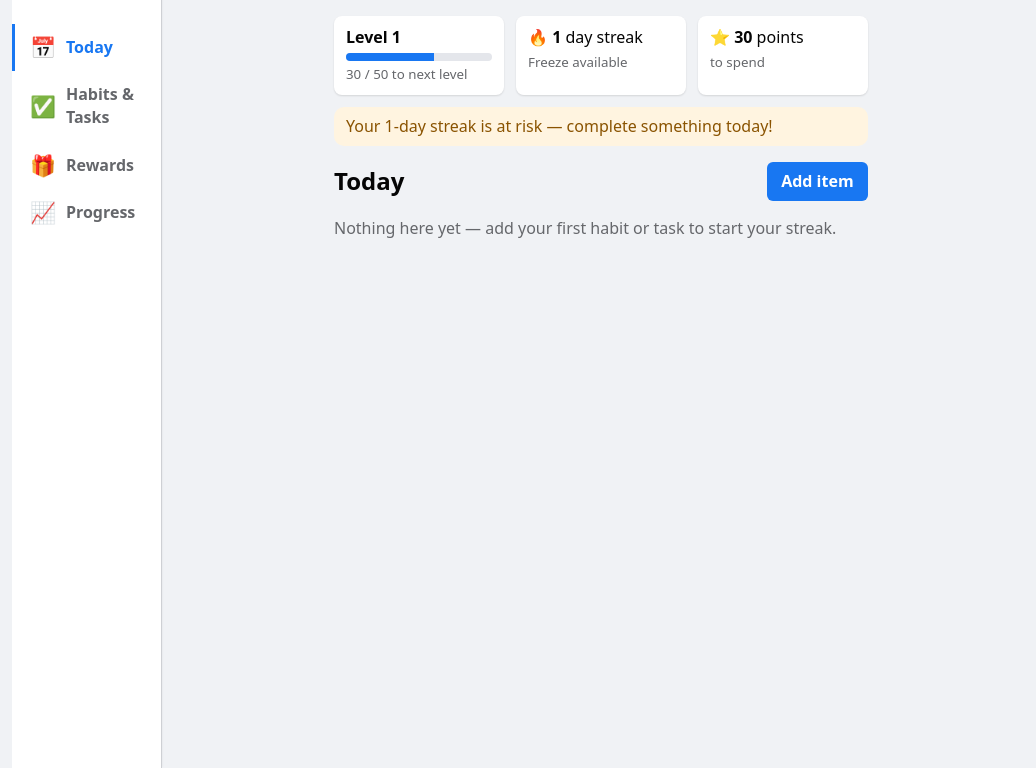
Test: Rewards screen › redeeming spends the balance, logs history, and keeps the level
Click the button "🎁 Rewards" at coordinates (86, 165), box [12,142,161,189]
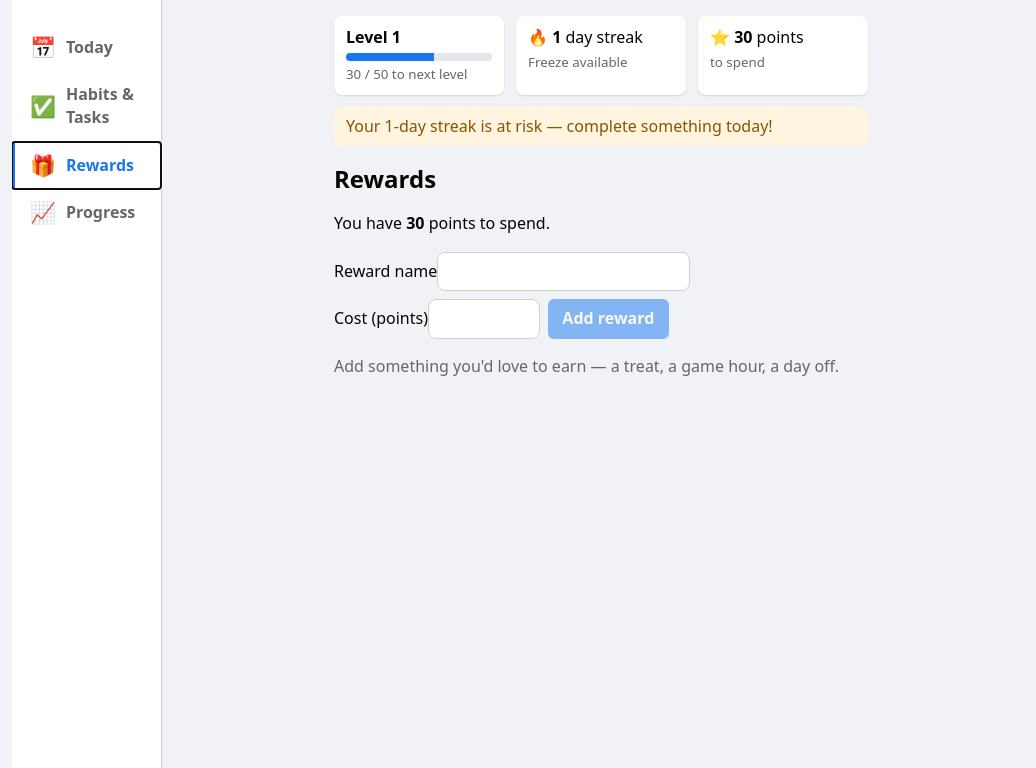
Type "Coffee" into the field labelled "Reward name" at coordinates (564, 272), box [437,252,690,291]
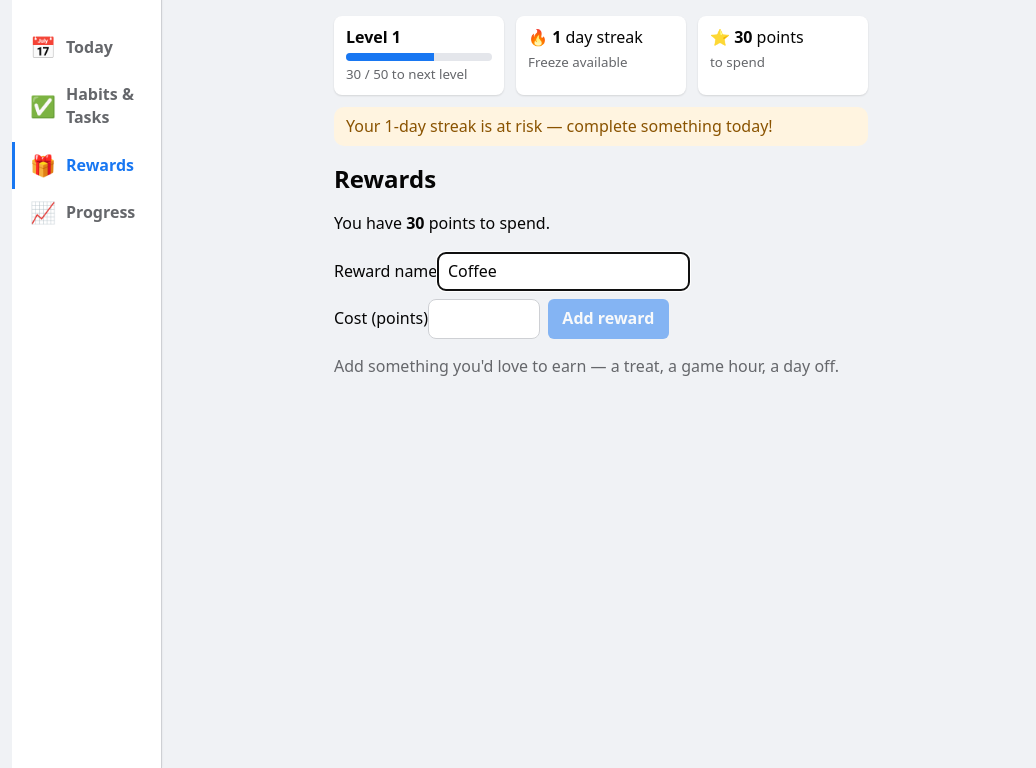
Type "15" into the number field labelled "Cost (points)" at coordinates (484, 319), box [428,299,540,339]
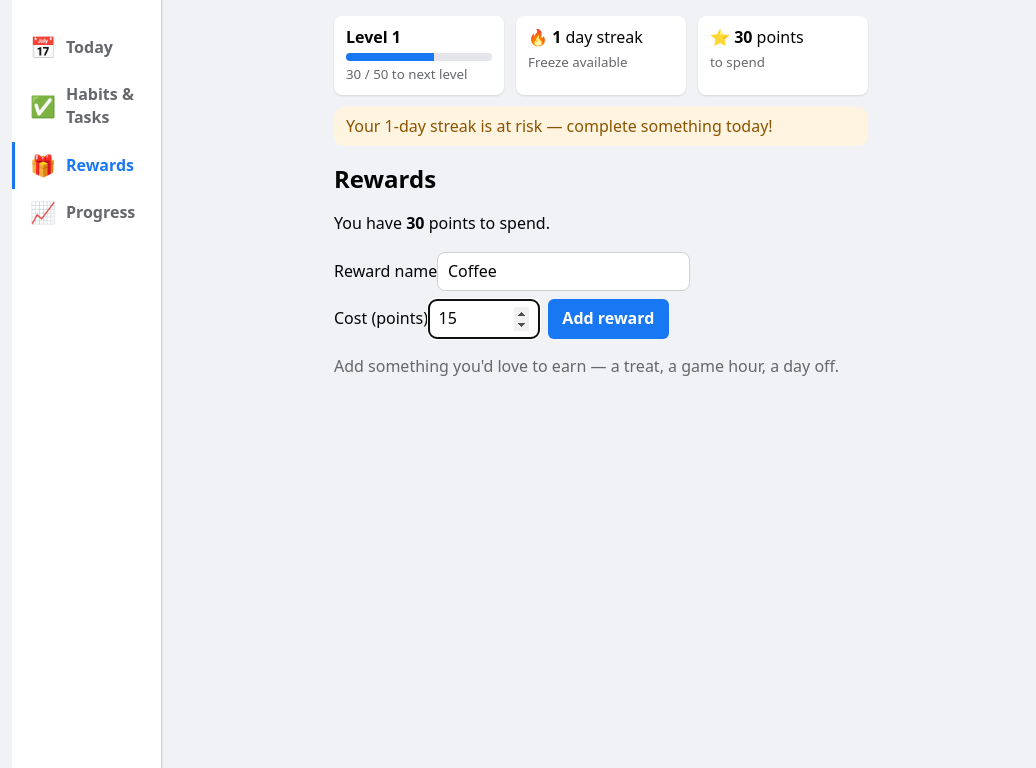
Click the button "Add reward" at coordinates (608, 319), box [548,299,669,339]
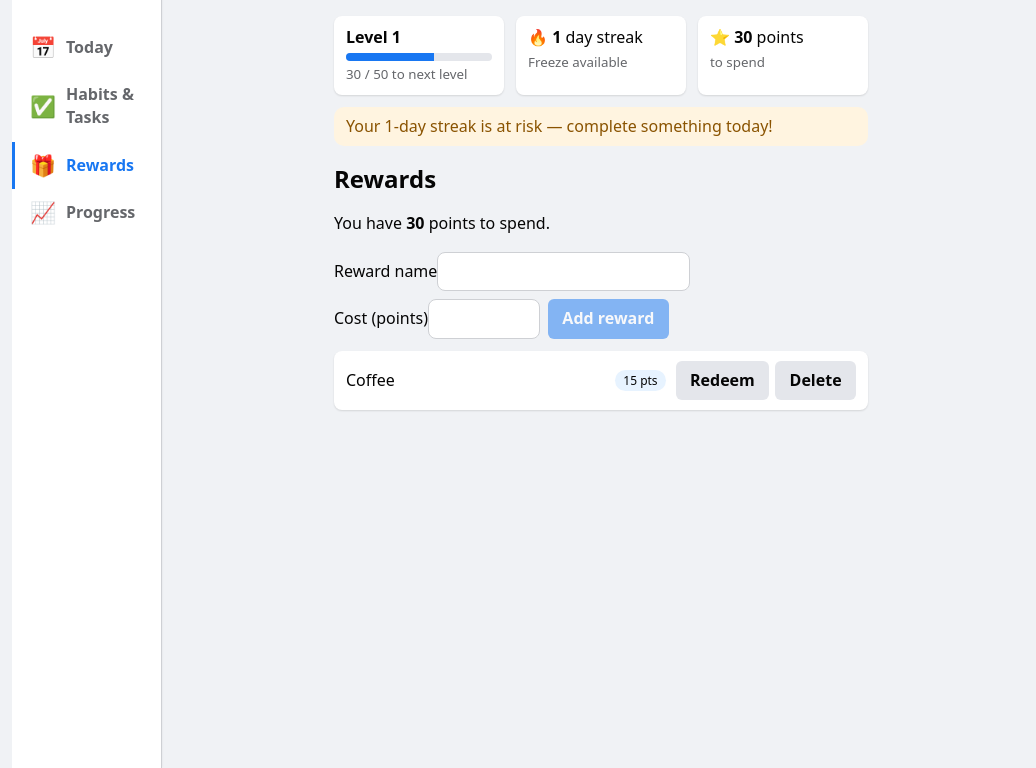
Click the button named "redeem coffee" at coordinates (722, 380), box [676,361,769,400]
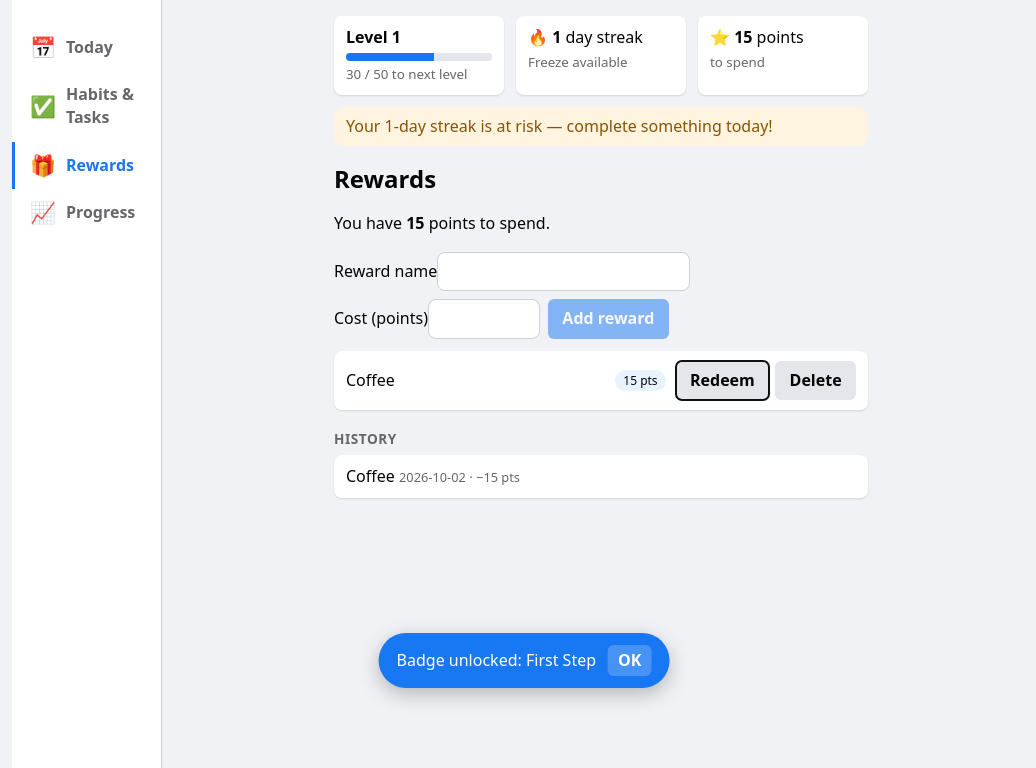
Check: the text with test id "level" reads "Level 1", box [346,26,401,48]
Check: the text with test id "balance" reads "15", box [734,26,752,48]
Check: the heading "History" is shown, box [334,429,397,448]
